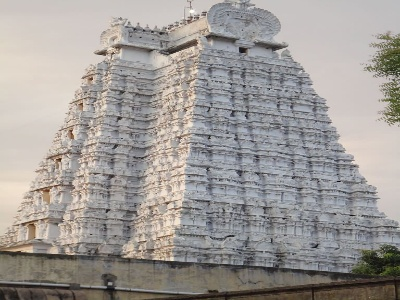gopura: (37, 32, 365, 263)
